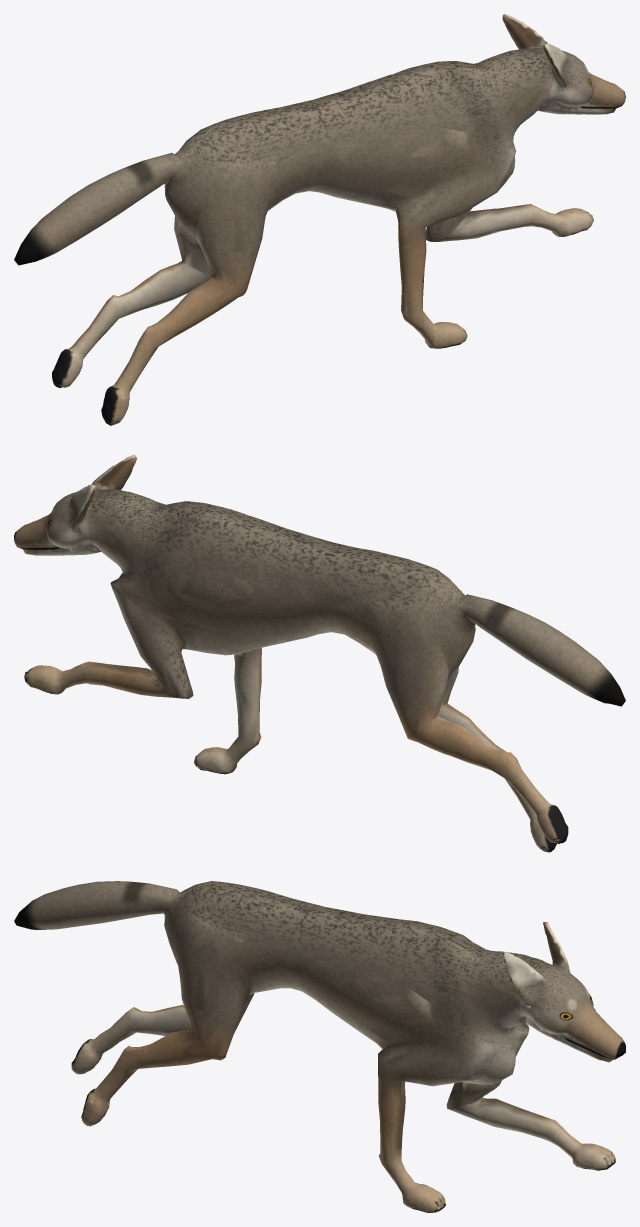
The model's file is wolf_run.glb.
3 renders of one model, top to bottom at view 1: azimuth 30°, elevation 25°; view 2: azimuth 150°, elevation 25°; view 3: azimuth 330°, elevation 25°, orthographic.
Parts seen in each view (by area): view 1: wolf_run_mesh; view 2: wolf_run_mesh; view 3: wolf_run_mesh.
Part boxes in pixels (left/top/right/bottom): wolf_run_mesh: left=14, top=14, right=625, bottom=425; wolf_run_mesh: left=14, top=454, right=625, bottom=852; wolf_run_mesh: left=14, top=881, right=625, bottom=1212.
Bounding box in the file's own units: 1.38 × 0.6187 × 0.1811.
Materials: 1 (1 with a texture image).
